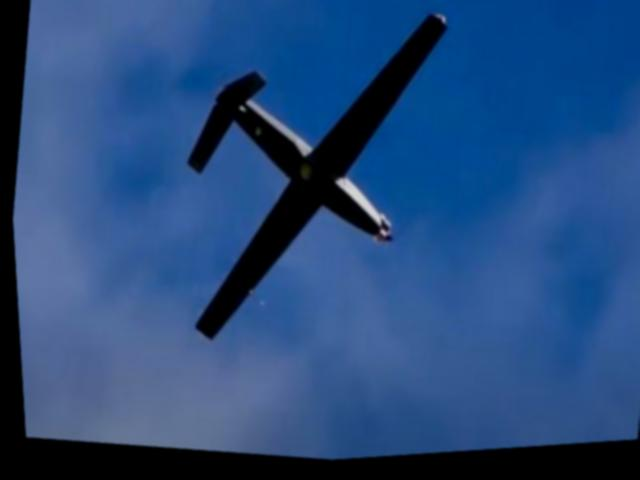iha: (149, 0, 471, 378)
